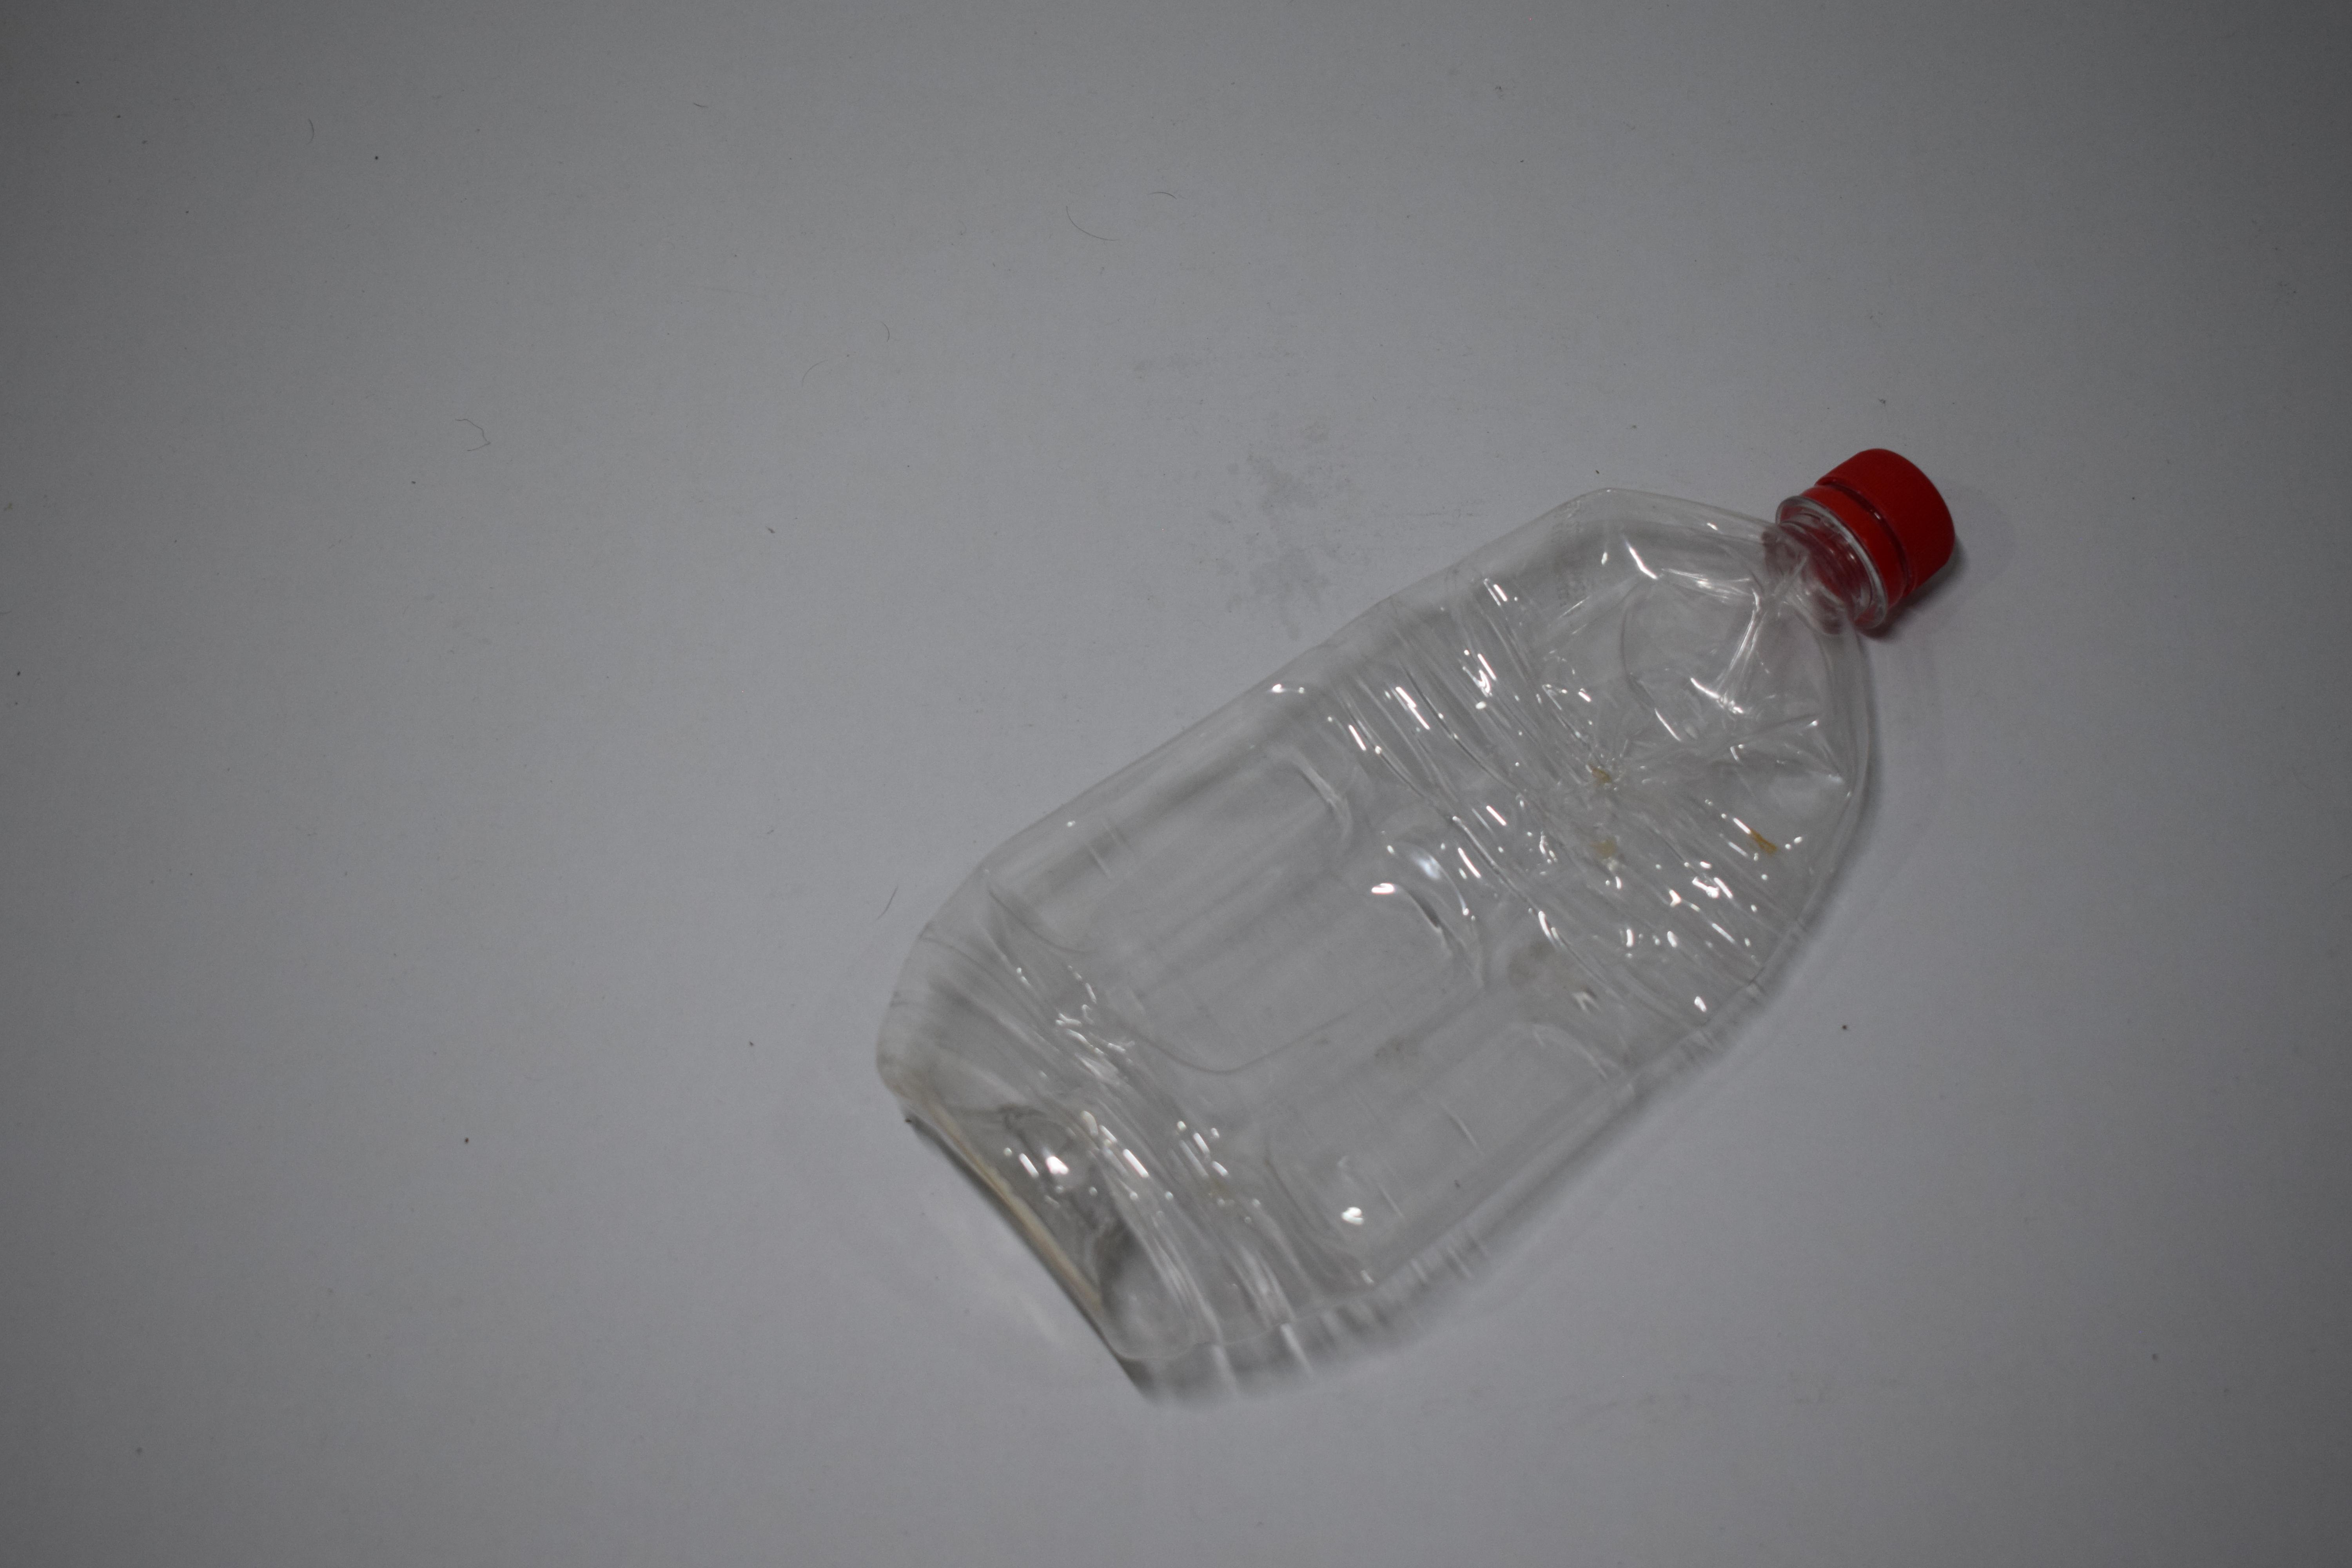bottle: (863, 44, 1967, 196)
